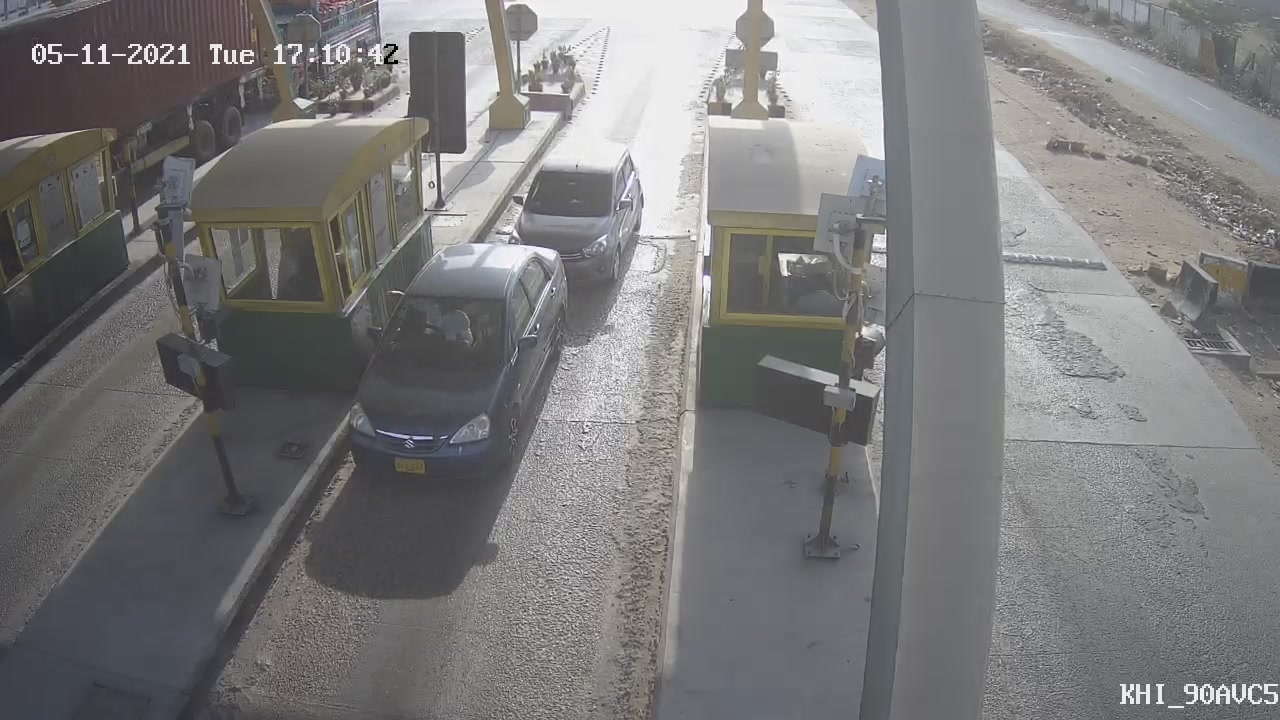F1: (325, 229, 589, 498), (489, 131, 661, 313)
